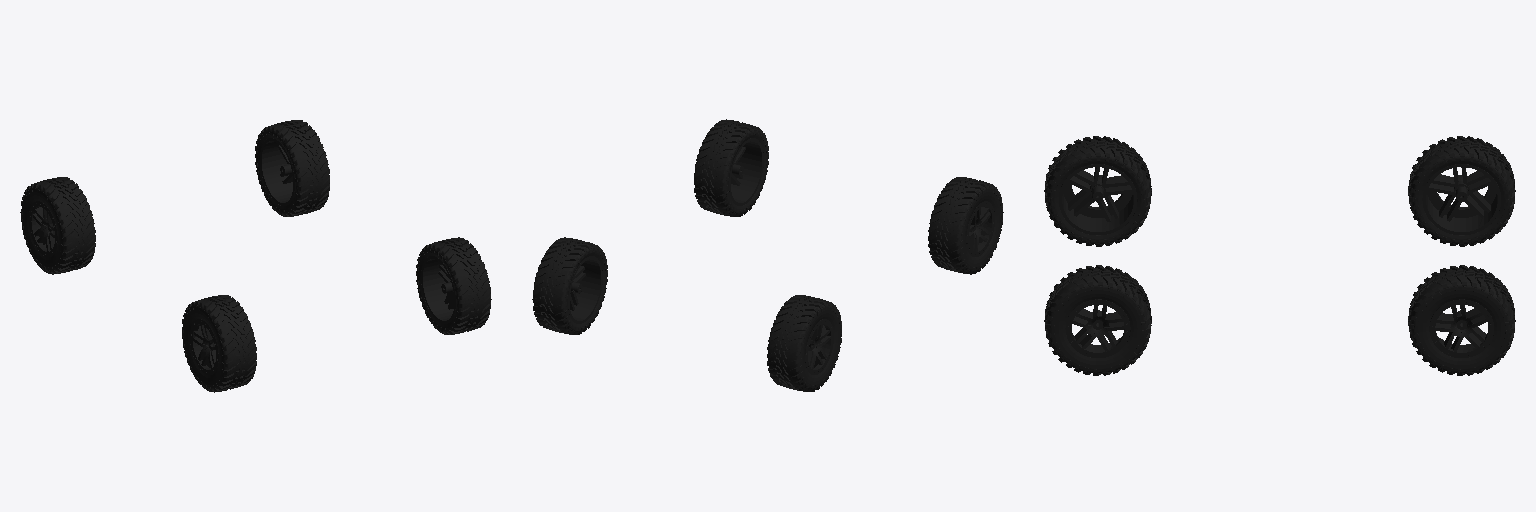
URDF robot description (Robot1):
<?xml version="1.0" encoding="utf-8"?>
<!-- This URDF was automatically created by SolidWorks to URDF Exporter! Originally created by [author] ([email redacted]) 
     Commit Version: 1.6.0-4-g7f85cfe  Build Version: 1.6.7995.38578
     For more information, please see http://wiki.ros.org/sw_urdf_exporter -->
<robot
  name="Robot1">
  <link
    name="base_link">
    <inertial>
      <origin
        xyz="0.10774749511809 -0.0559414514988771 0.145140800944505"
        rpy="0 0 0" />
      <mass
        value="1.93317068227308" />
      <inertia
        ixx="0.00629448343170172"
        ixy="-1.15654709584654E-06"
        ixz="8.66235471435525E-07"
        iyy="0.00955087683924443"
        iyz="-5.69961069767612E-07"
        izz="0.00342079578442974" />
    </inertial>
    <visual>
      <origin
        xyz="0 0 0"
        rpy="0 0 0" />
      <geometry>
        <mesh
          filename="package://urdf_test/meshes/base_link.STL" />
      </geometry>
      <material
        name="">
        <color
          rgba="0.898039215686275 0.917647058823529 0.929411764705882 1" />
      </material>
    </visual>
    <collision>
      <origin
        xyz="0 0 0"
        rpy="0 0 0" />
      <geometry>
        <mesh
          filename="package://urdf_test/meshes/base_link.STL" />
      </geometry>
    </collision>
  </link>
  <link
    name="forward_right_link">
    <inertial>
      <origin
        xyz="0.004611 -1.5057E-05 6.1621E-06"
        rpy="0 0 0" />
      <mass
        value="0.10206" />
      <inertia
        ixx="0.00015483"
        ixy="-5.1182E-09"
        ixz="2.1324E-09"
        iyy="9.3209E-05"
        iyz="-1.9344E-09"
        izz="9.3205E-05" />
    </inertial>
    <visual>
      <origin
        xyz="0 0 0"
        rpy="0 0 0" />
      <geometry>
        <mesh
          filename="package://urdf_test/meshes/forward_right_link.STL" />
      </geometry>
      <material
        name="">
        <color
          rgba="0.15294 0.15294 0.15294 1" />
      </material>
    </visual>
    <collision>
      <origin
        xyz="0 0 0"
        rpy="0 0 0" />
      <geometry>
        <mesh
          filename="package://urdf_test/meshes/forward_right_link.STL" />
      </geometry>
    </collision>
  </link>
  <joint
    name="forward_right_joint"
    type="continuous">
    <origin
      xyz="-0.045 -0.33465 -0.1125"
      rpy="-0.1216 0 3.1416" />
    <parent
      link="base_link" />
    <child
      link="forward_right_link" />
    <axis
      xyz="-1 0 0" />
  </joint>
  <link
    name="forward_left_link">
    <inertial>
      <origin
        xyz="0.004611 -1.5057E-05 6.162E-06"
        rpy="0 0 0" />
      <mass
        value="0.10206" />
      <inertia
        ixx="0.00015483"
        ixy="-5.1182E-09"
        ixz="2.1324E-09"
        iyy="9.3209E-05"
        iyz="-1.9343E-09"
        izz="9.3205E-05" />
    </inertial>
    <visual>
      <origin
        xyz="0 0 0"
        rpy="0 0 0" />
      <geometry>
        <mesh
          filename="package://urdf_test/meshes/forward_left_link.STL" />
      </geometry>
      <material
        name="">
        <color
          rgba="0.15294 0.15294 0.15294 1" />
      </material>
    </visual>
    <collision>
      <origin
        xyz="0 0 0"
        rpy="0 0 0" />
      <geometry>
        <mesh
          filename="package://urdf_test/meshes/forward_left_link.STL" />
      </geometry>
    </collision>
  </link>
  <joint
    name="forward_left_joint"
    type="continuous">
    <origin
      xyz="0.26 -0.33465 -0.1125"
      rpy="-1.6924 0 0" />
    <parent
      link="base_link" />
    <child
      link="forward_left_link" />
    <axis
      xyz="-1 0 0" />
  </joint>
  <link
    name="back_right_link">
    <inertial>
      <origin
        xyz="0.004611 -1.5057E-05 6.162E-06"
        rpy="0 0 0" />
      <mass
        value="0.10206" />
      <inertia
        ixx="0.00015483"
        ixy="-5.1182E-09"
        ixz="2.1324E-09"
        iyy="9.3209E-05"
        iyz="-1.9343E-09"
        izz="9.3205E-05" />
    </inertial>
    <visual>
      <origin
        xyz="0 0 0"
        rpy="0 0 0" />
      <geometry>
        <mesh
          filename="package://urdf_test/meshes/back_right_link.STL" />
      </geometry>
      <material
        name="">
        <color
          rgba="0.15294 0.15294 0.15294 1" />
      </material>
    </visual>
    <collision>
      <origin
        xyz="0 0 0"
        rpy="0 0 0" />
      <geometry>
        <mesh
          filename="package://urdf_test/meshes/back_right_link.STL" />
      </geometry>
    </collision>
  </link>
  <joint
    name="back_right_joint"
    type="continuous">
    <origin
      xyz="-0.045 0.034648 -0.1125"
      rpy="-1.6924 0 3.1416" />
    <parent
      link="base_link" />
    <child
      link="back_right_link" />
    <axis
      xyz="-1 0 0" />
  </joint>
  <link
    name="back_left_link">
    <inertial>
      <origin
        xyz="0.00461096896086888 -1.50571685123765E-05 6.16205287674865E-06"
        rpy="0 0 0" />
      <mass
        value="0.102063616339722" />
      <inertia
        ixx="0.000154829800054215"
        ixy="-5.11824211938292E-09"
        ixz="2.13239728089323E-09"
        iyy="9.32089298816449E-05"
        iyz="-1.93431547079447E-09"
        izz="9.32050393197756E-05" />
    </inertial>
    <visual>
      <origin
        xyz="0 0 0"
        rpy="0 0 0" />
      <geometry>
        <mesh
          filename="package://urdf_test/meshes/back_left_link.STL" />
      </geometry>
      <material
        name="">
        <color
          rgba="0.152941176470588 0.152941176470588 0.152941176470588 1" />
      </material>
    </visual>
    <collision>
      <origin
        xyz="0 0 0"
        rpy="0 0 0" />
      <geometry>
        <mesh
          filename="package://urdf_test/meshes/back_left_link.STL" />
      </geometry>
    </collision>
  </link>
  <joint
    name="back_left_joint"
    type="continuous">
    <origin
      xyz="0.26 0.034648 -0.1125"
      rpy="-0.1216 0 0" />
    <parent
      link="base_link" />
    <child
      link="back_left_link" />
    <axis
      xyz="-1 0 0" />
  </joint>
</robot>

--- Facts derived from the render (not from the file) ---
3 views of the same robot in one strip: view 1: azimuth 30°, elevation 25°; view 2: azimuth 150°, elevation 25°; view 3: azimuth 270°, elevation 25° (orthographic).
Robot: Robot1 — 5 links, 4 joints (4 continuous); root link base_link; default pose: all joints at 0.
Visible links, largest first — view 1: forward_right_link, back_right_link, back_left_link, forward_left_link; view 2: forward_left_link, back_left_link, back_right_link, forward_right_link; view 3: back_right_link, forward_right_link, back_left_link, forward_left_link.
Boxes of the visible links, x1,y1,x2,y2 form: forward_right_link: (182,295,256,392); back_right_link: (20,177,95,274); back_left_link: (255,120,329,216); forward_left_link: (416,237,491,334); forward_left_link: (694,119,768,216); back_left_link: (532,237,607,334); back_right_link: (767,295,841,391); forward_right_link: (928,177,1003,274); back_right_link: (1408,136,1515,246); forward_right_link: (1044,136,1151,246); back_left_link: (1408,265,1515,375); forward_left_link: (1044,265,1151,375).
Size in the robot's own frame: 0.3545 by 0.4781 by 0.1088 metres.
4 mesh visuals loaded from 5 distinct referenced files (4 binary STL); not drawn: 1 (reference not matched to a file when rendering).